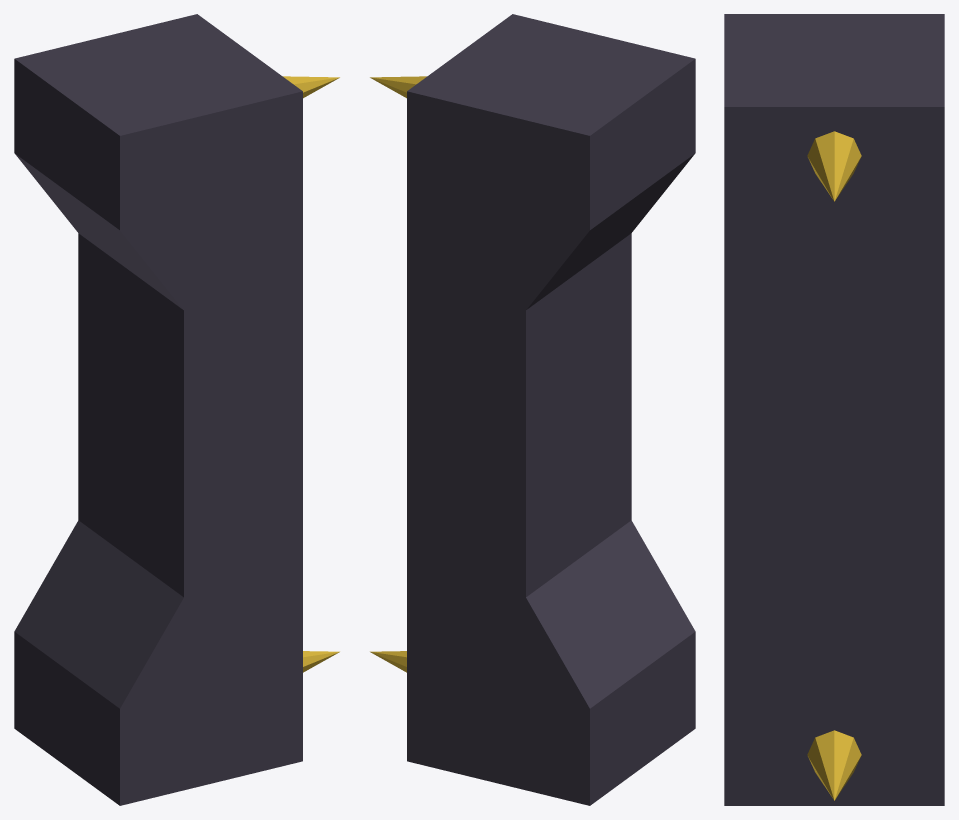
File: ElectricNeedle.fbx
The picture shows the model from 3 angles, left to right: view 1: azimuth 30°, elevation 25°; view 2: azimuth 150°, elevation 25°; view 3: azimuth 270°, elevation 25°; orthographic projection. The views are drawn at different scales.
Visible parts, largest first — view 1: Cube; view 2: Cube; view 3: Cube.
Part boxes in pixels (box(x1,y1,x2,y2)): Cube: box(14, 14, 339, 805); Cube: box(370, 14, 695, 805); Cube: box(724, 14, 944, 805).
Bounding box in the file's own units: 2.99 × 7 × 2.
